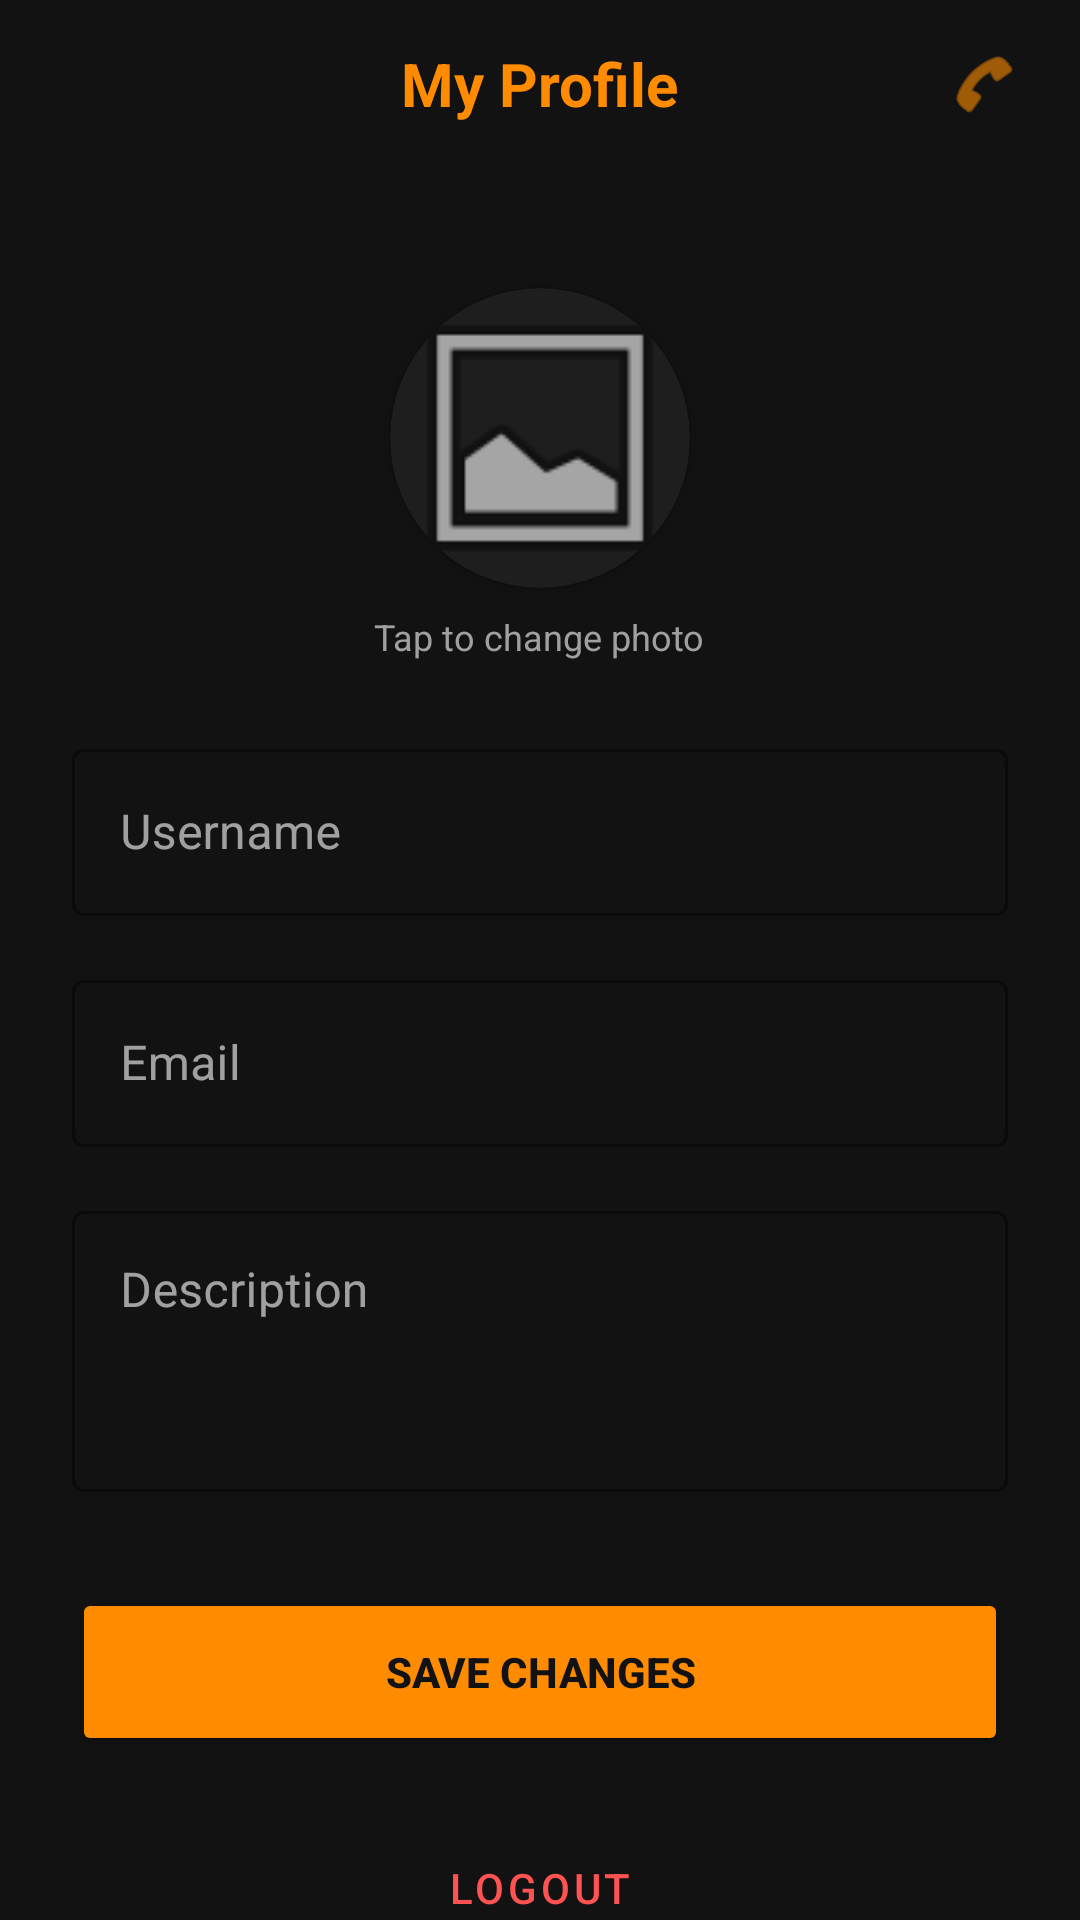

Where icons sit on this 1080×1920 app screen, as (x1, y1, x2, y2):
call: (956, 56, 1013, 113)
gallery: (436, 334, 644, 542)
